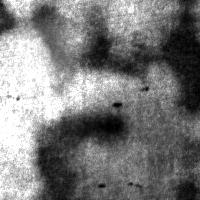patches: (61, 92, 179, 200), (35, 113, 125, 200), (1, 12, 83, 94), (156, 1, 198, 115), (78, 8, 146, 72), (29, 5, 70, 70), (173, 172, 200, 200), (1, 1, 19, 36)
